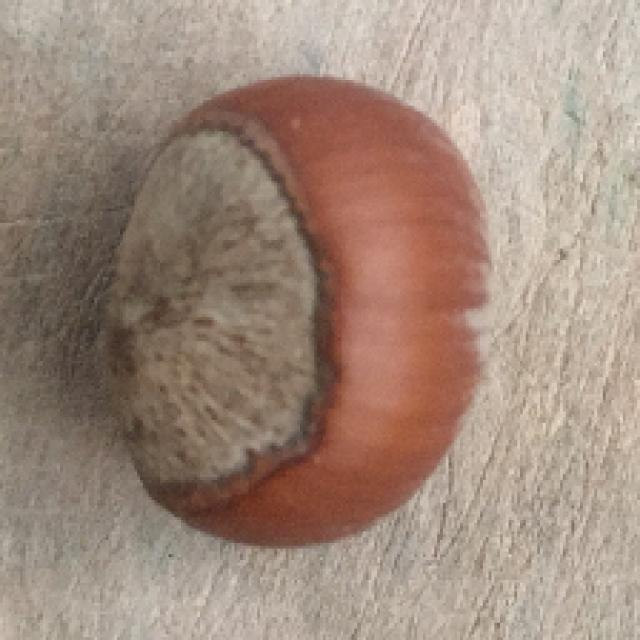qualityHazelnut: (92, 71, 496, 555)
